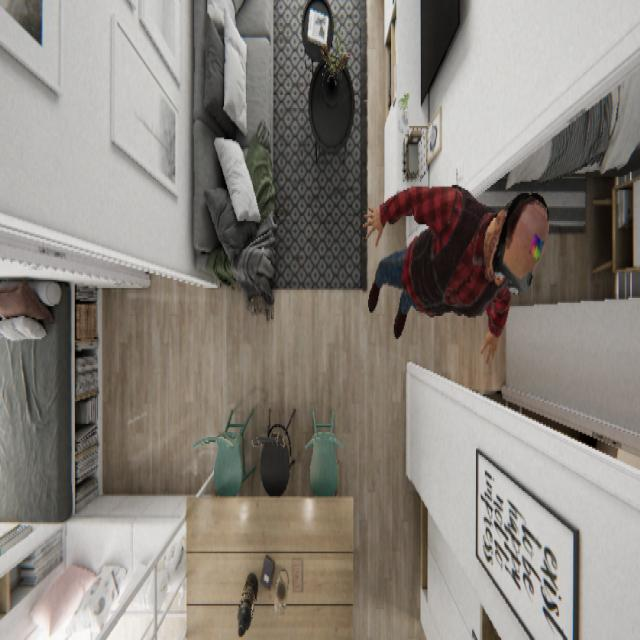Colored-Marker: (528, 229, 544, 264)
Human: (361, 180, 550, 365)
